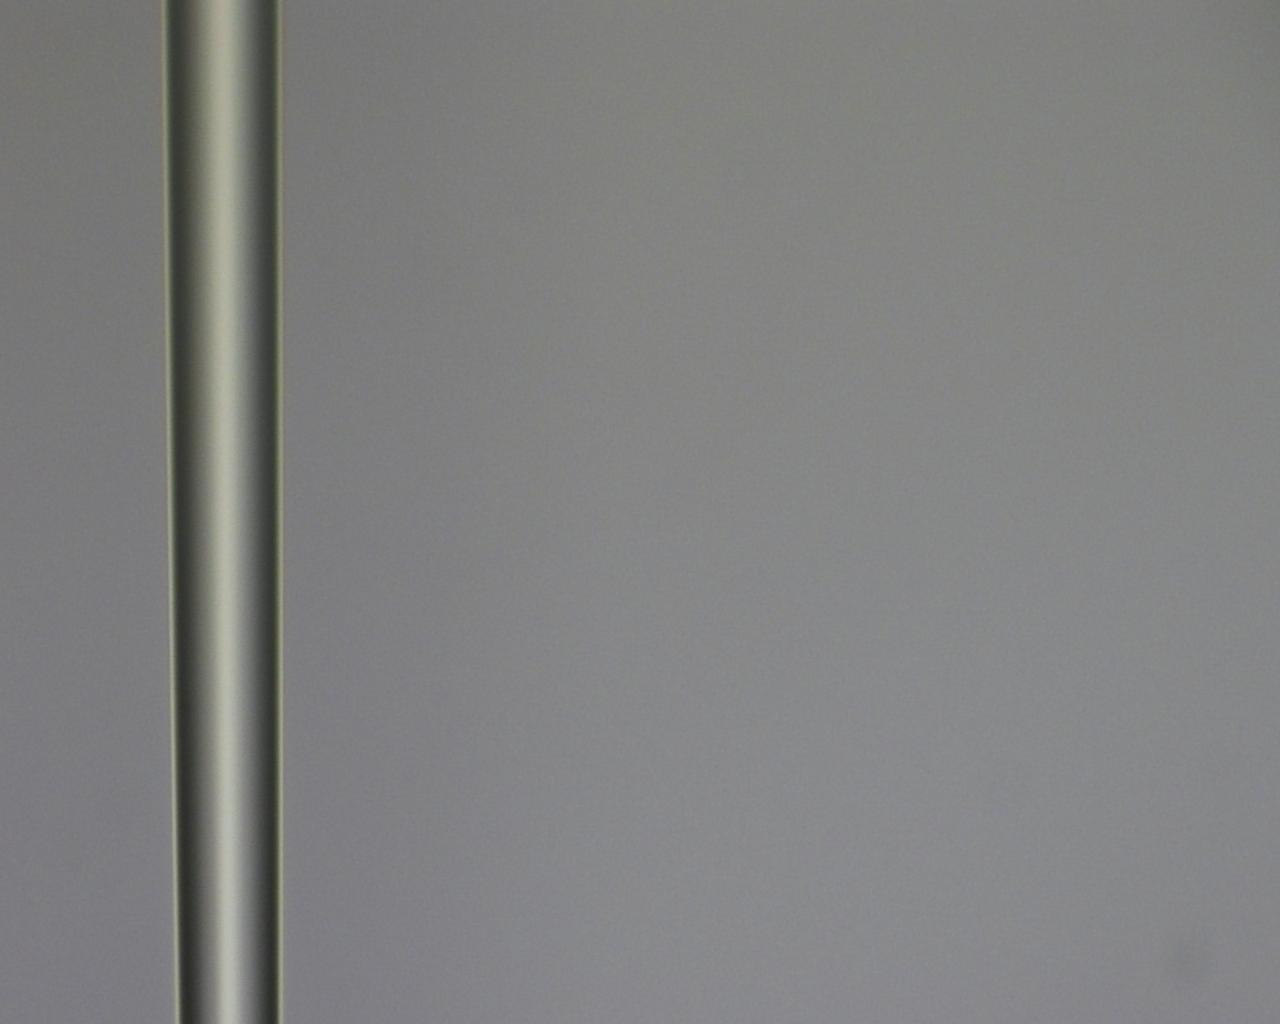fiber: (403, 30, 819, 419), (438, 419, 699, 1024), (889, 419, 1280, 681)
